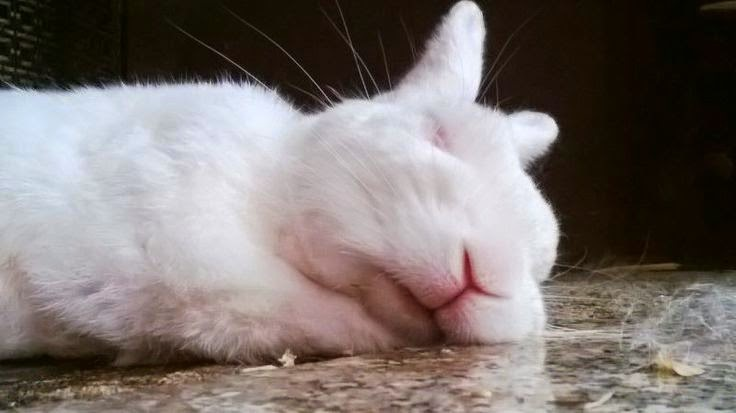bunny: (20, 1, 591, 383)
